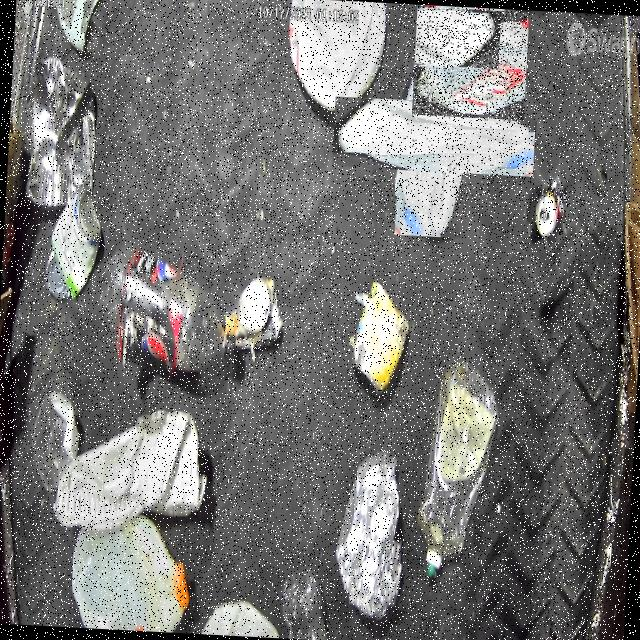milk-jug: (363, 64, 508, 208), (412, 6, 528, 122)
